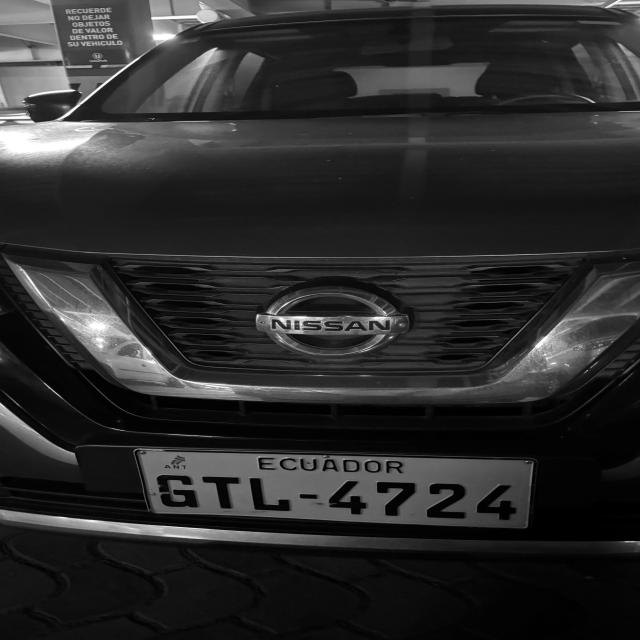Placa: (137, 449, 534, 528)
